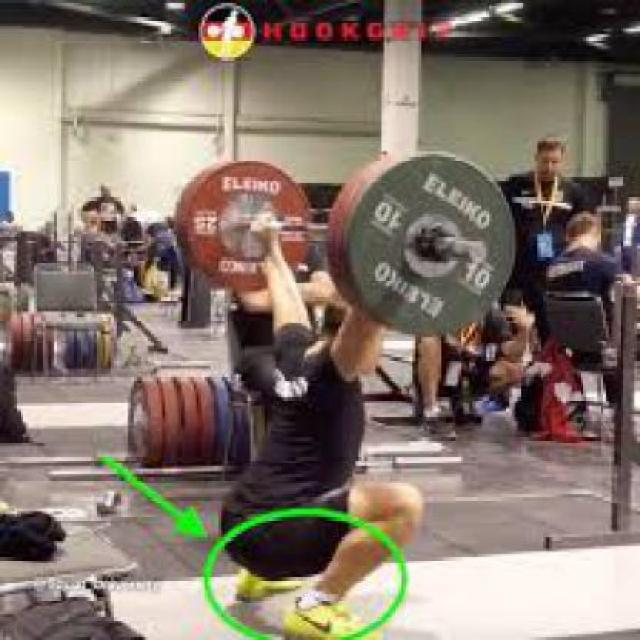barbell: (343, 151, 519, 340)
